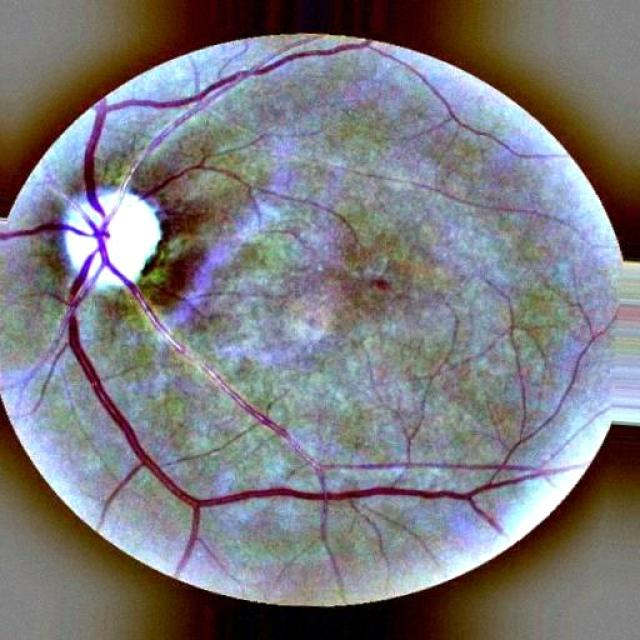Macula: (348, 259, 412, 314)
Nerves: (0, 42, 568, 568), (201, 366, 324, 474), (140, 162, 246, 198)
Optic Disk: (64, 190, 161, 290)
